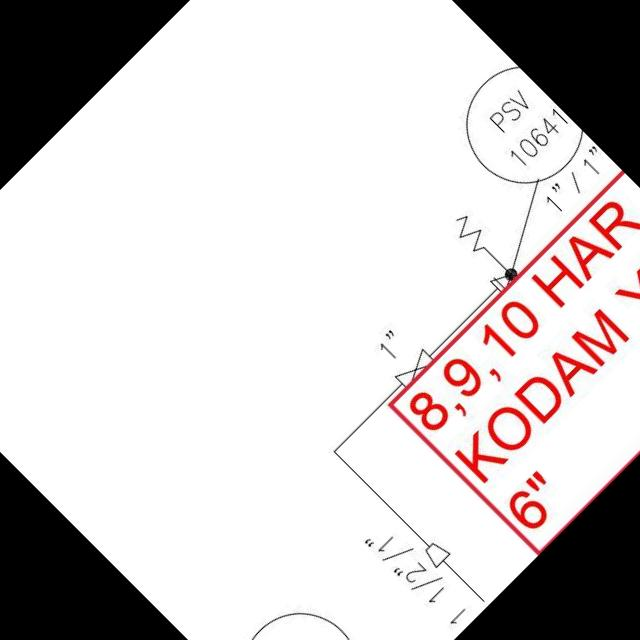GV: (386, 341, 441, 395)
SP: (413, 532, 455, 574)
